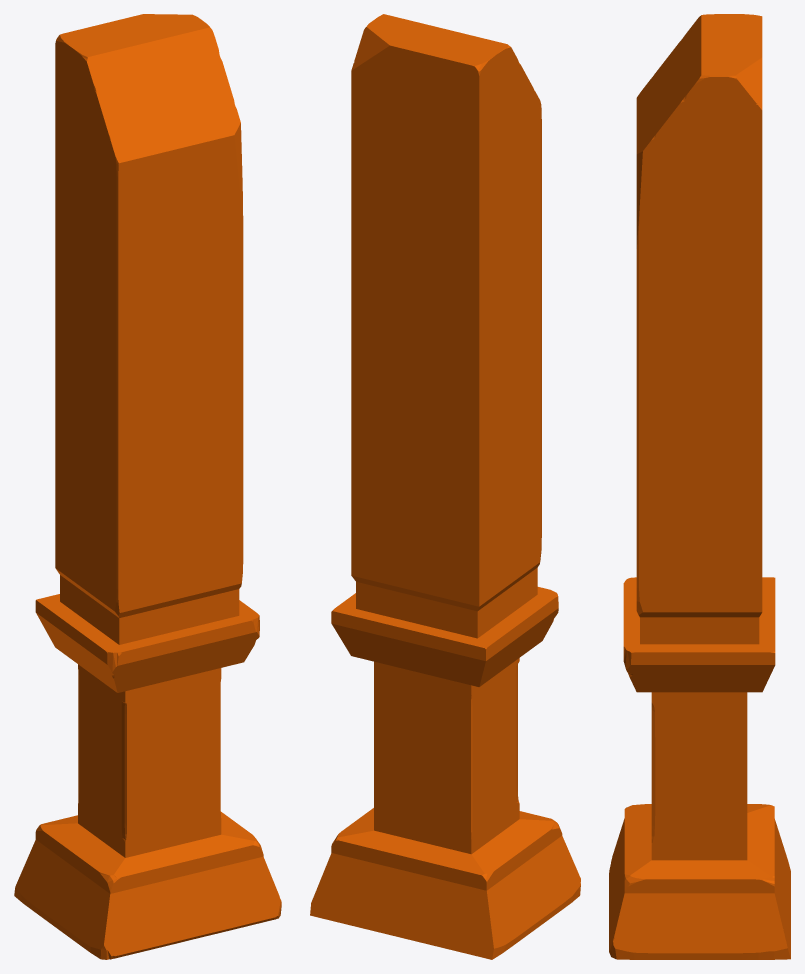
3 renders of one model, left to right at view 1: azimuth 30°, elevation 25°; view 2: azimuth 150°, elevation 25°; view 3: azimuth 270°, elevation 25°, orthographic.
Visible parts, largest first — view 1: Cube.059; view 2: Cube.059; view 3: Cube.059.
Boxes of the visible parts, x1,y1,x2,y2 form: Cube.059: (14, 14, 281, 959); Cube.059: (310, 14, 580, 959); Cube.059: (609, 14, 790, 959).
Size of the model in its own units: 861 by 3888 by 736.
